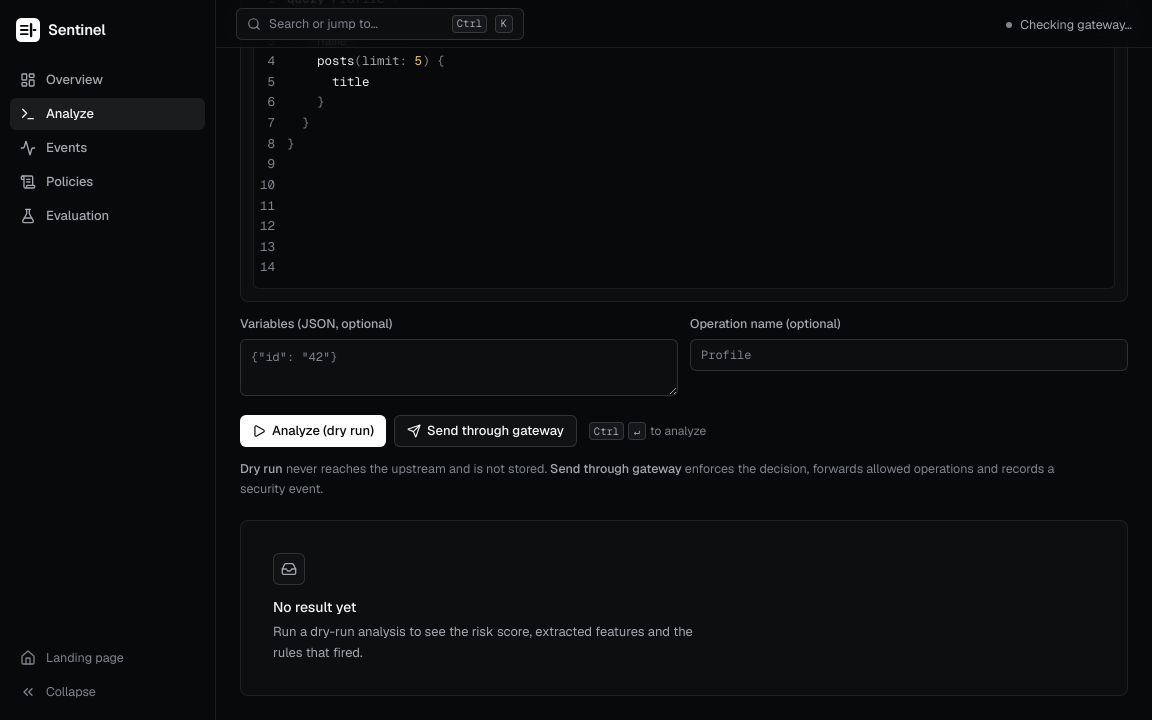
shows the syntax error returned for an invalid operation
(page scrolled)
Click the button "Analyze (dry run)": (313, 431) [240,415,386,447]
(page scrolled)
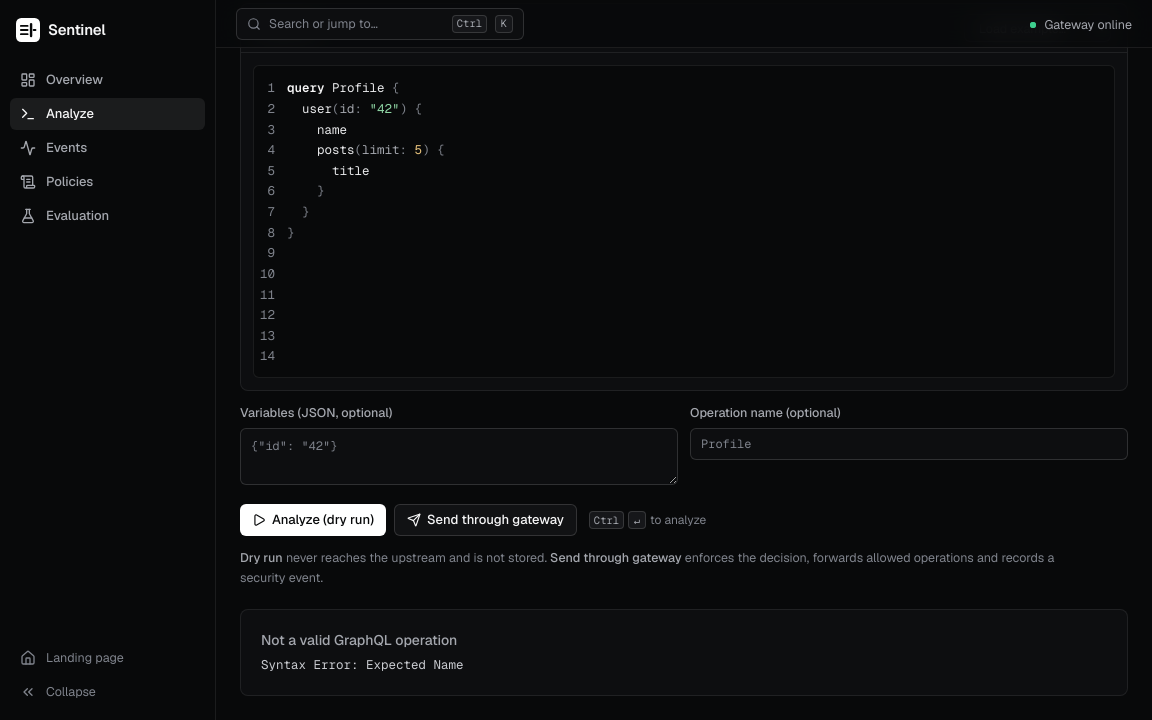
Result: the text "Not a valid GraphQL operation" is shown at [261,631,457,649]
Result: the text "Syntax Error: Expected Name" is shown at [261,656,464,674]
